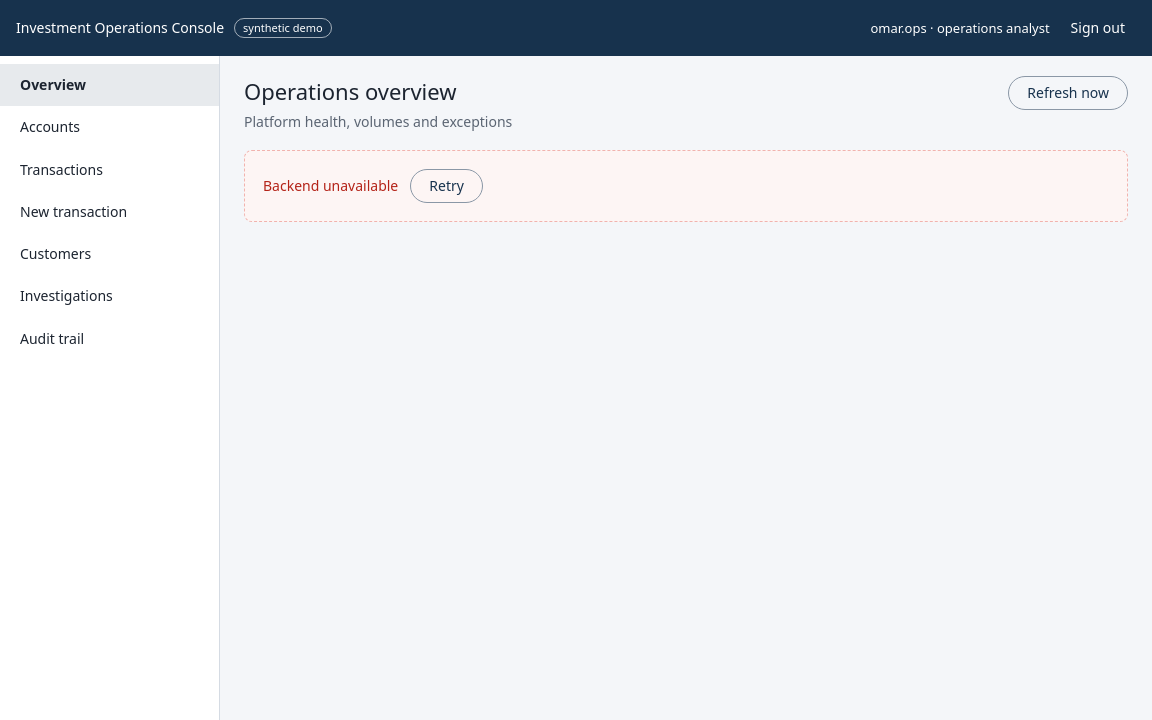
Test case: Dashboard › shows an error with retry when the first load fails, and recovers on retry
Check: the message shows "Backend unavailable", box [263,176,398,195]
Click the button "Retry".
click(447, 186)  # box [410,169,483,203]
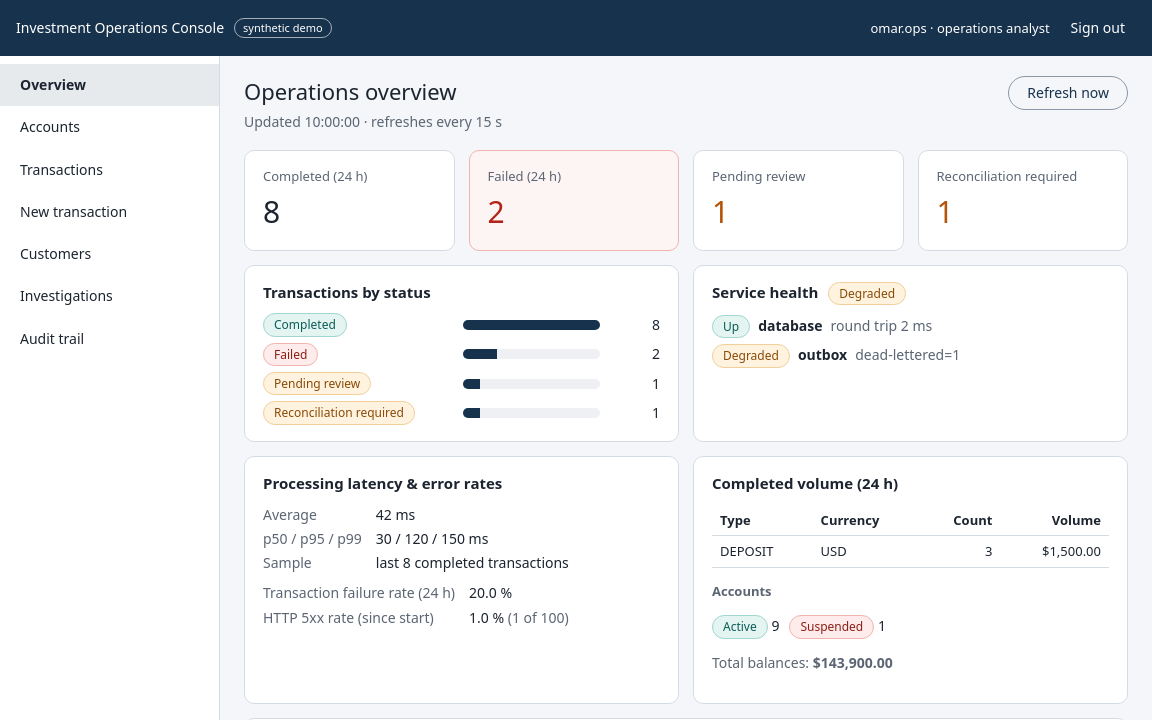
Check: the text "Completed (24 h)" is shown, box [263,167,367,185]
